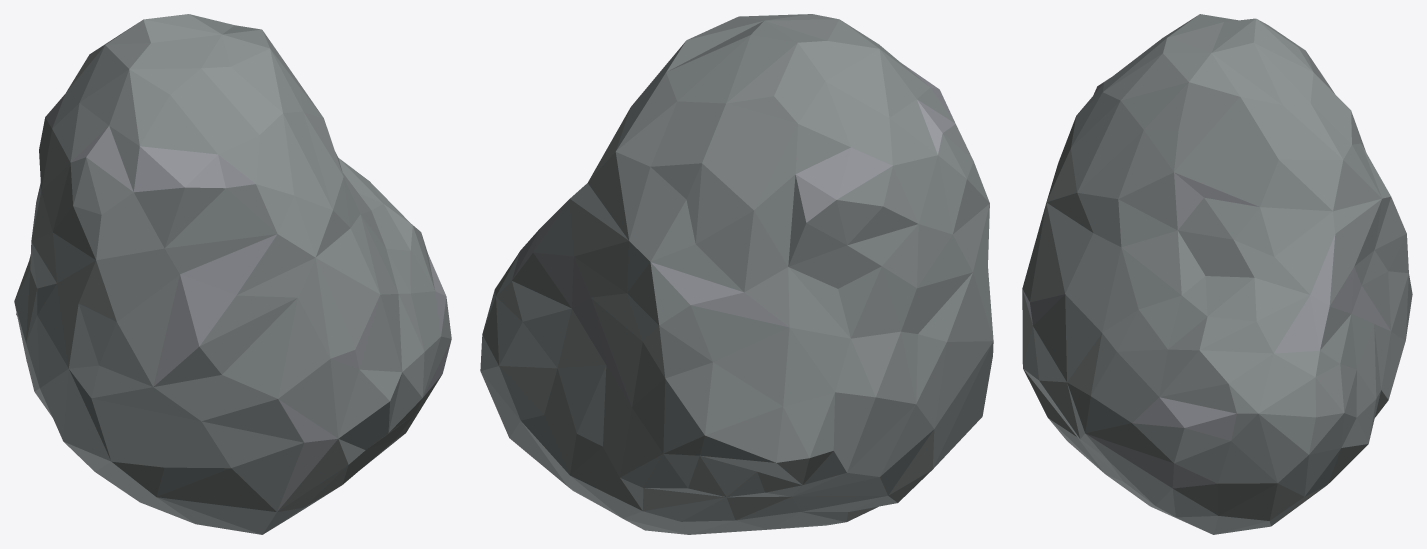
File: mesh_rock_small_01.fbx
The picture shows the model from 3 angles, left to right: view 1: azimuth 30°, elevation 25°; view 2: azimuth 150°, elevation 25°; view 3: azimuth 270°, elevation 25°; orthographic projection. The views are drawn at different scales.
Parts seen in each view (by area): view 1: mesh_rock_small_01_LOD0; view 2: mesh_rock_small_01_LOD0; view 3: mesh_rock_small_01_LOD0.
Part boxes in pixels (x1=…): mesh_rock_small_01_LOD0: x1=14, y1=14, x2=451, y2=534; mesh_rock_small_01_LOD0: x1=480, y1=14, x2=993, y2=534; mesh_rock_small_01_LOD0: x1=1022, y1=14, x2=1412, y2=534.
Size of what is drawn, in the model's own units: 1 by 1.15 by 0.9097.
